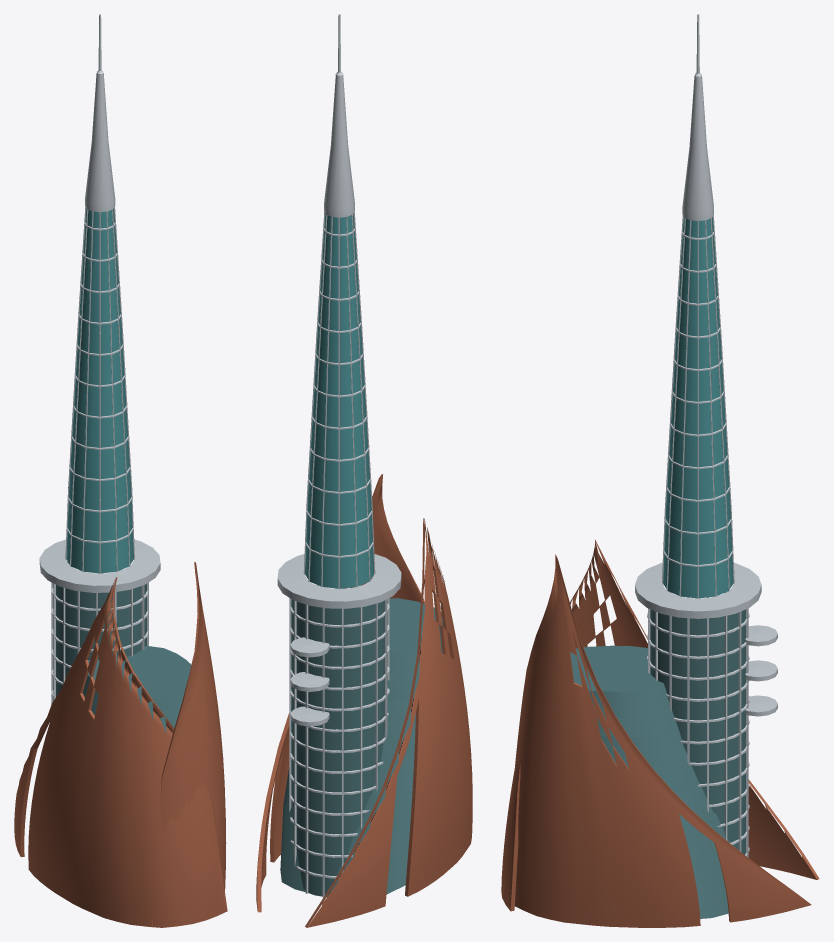
File: perth-bell-tower.glb
3 views of the same model, side by side, from view 1: azimuth 30°, elevation 25°; view 2: azimuth 150°, elevation 25°; view 3: azimuth 270°, elevation 25° (orthographic). The views are drawn at different scales.
Parts seen in each view (by area): view 1: The Bell Tower; view 2: The Bell Tower; view 3: The Bell Tower.
Part boxes in pixels (left/top/right/bottom): The Bell Tower: left=14, top=14, right=227, bottom=927; The Bell Tower: left=256, top=14, right=472, bottom=927; The Bell Tower: left=501, top=14, right=819, bottom=927.
Size of the model in its own units: 15.1 by 82.5 by 27.12.
